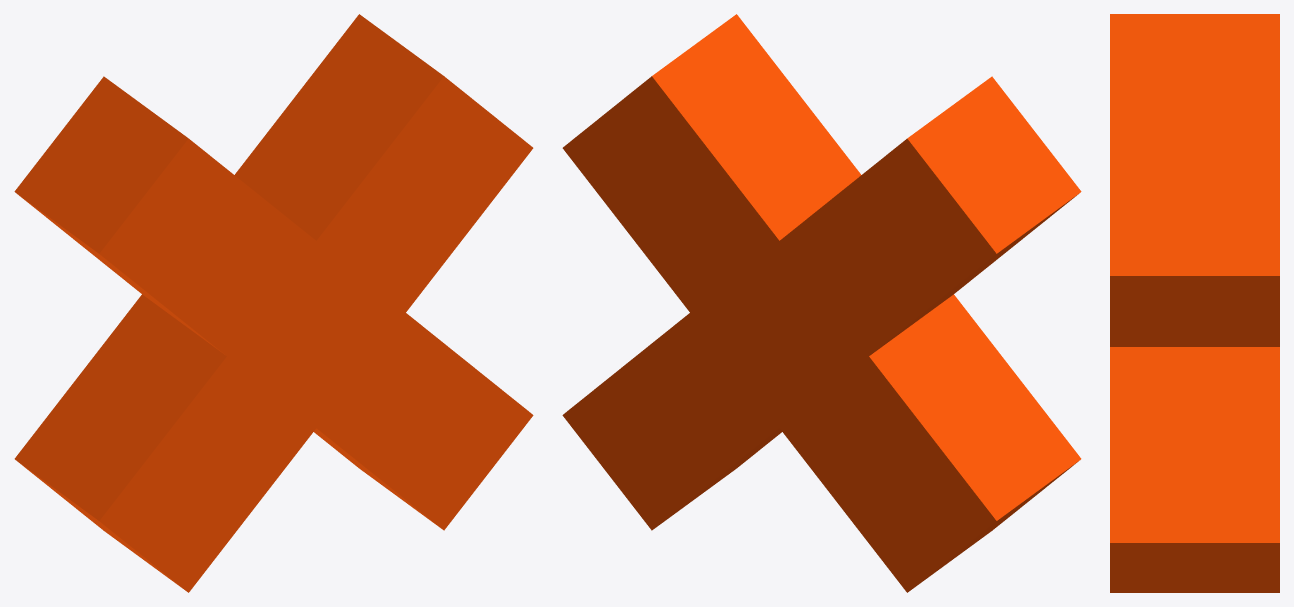
File: multiply.glb
3 views of the same model, side by side, from view 1: azimuth 30°, elevation 25°; view 2: azimuth 150°, elevation 25°; view 3: azimuth 270°, elevation 25° (orthographic).
Parts seen in each view (by area): view 1: Cube.001; view 2: Cube.001; view 3: Cube.001.
Boxes of the visible parts, x1,y1,x2,y2 form: Cube.001: (14,14,533,592); Cube.001: (562,14,1081,592); Cube.001: (1110,14,1279,592).
Size of the model in its own units: 13.31 by 13.31 by 4.5.
